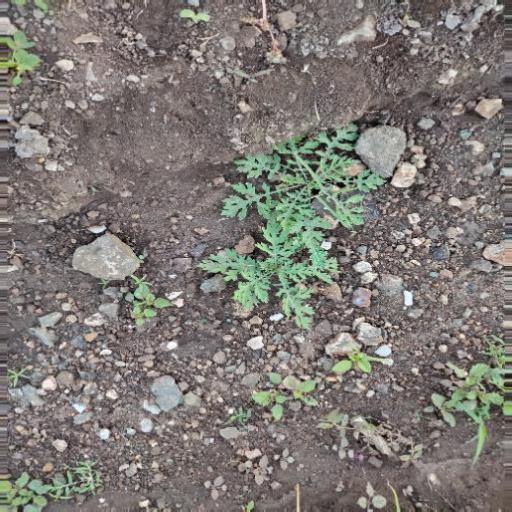weed: (200, 124, 384, 323), (1, 460, 100, 512)
